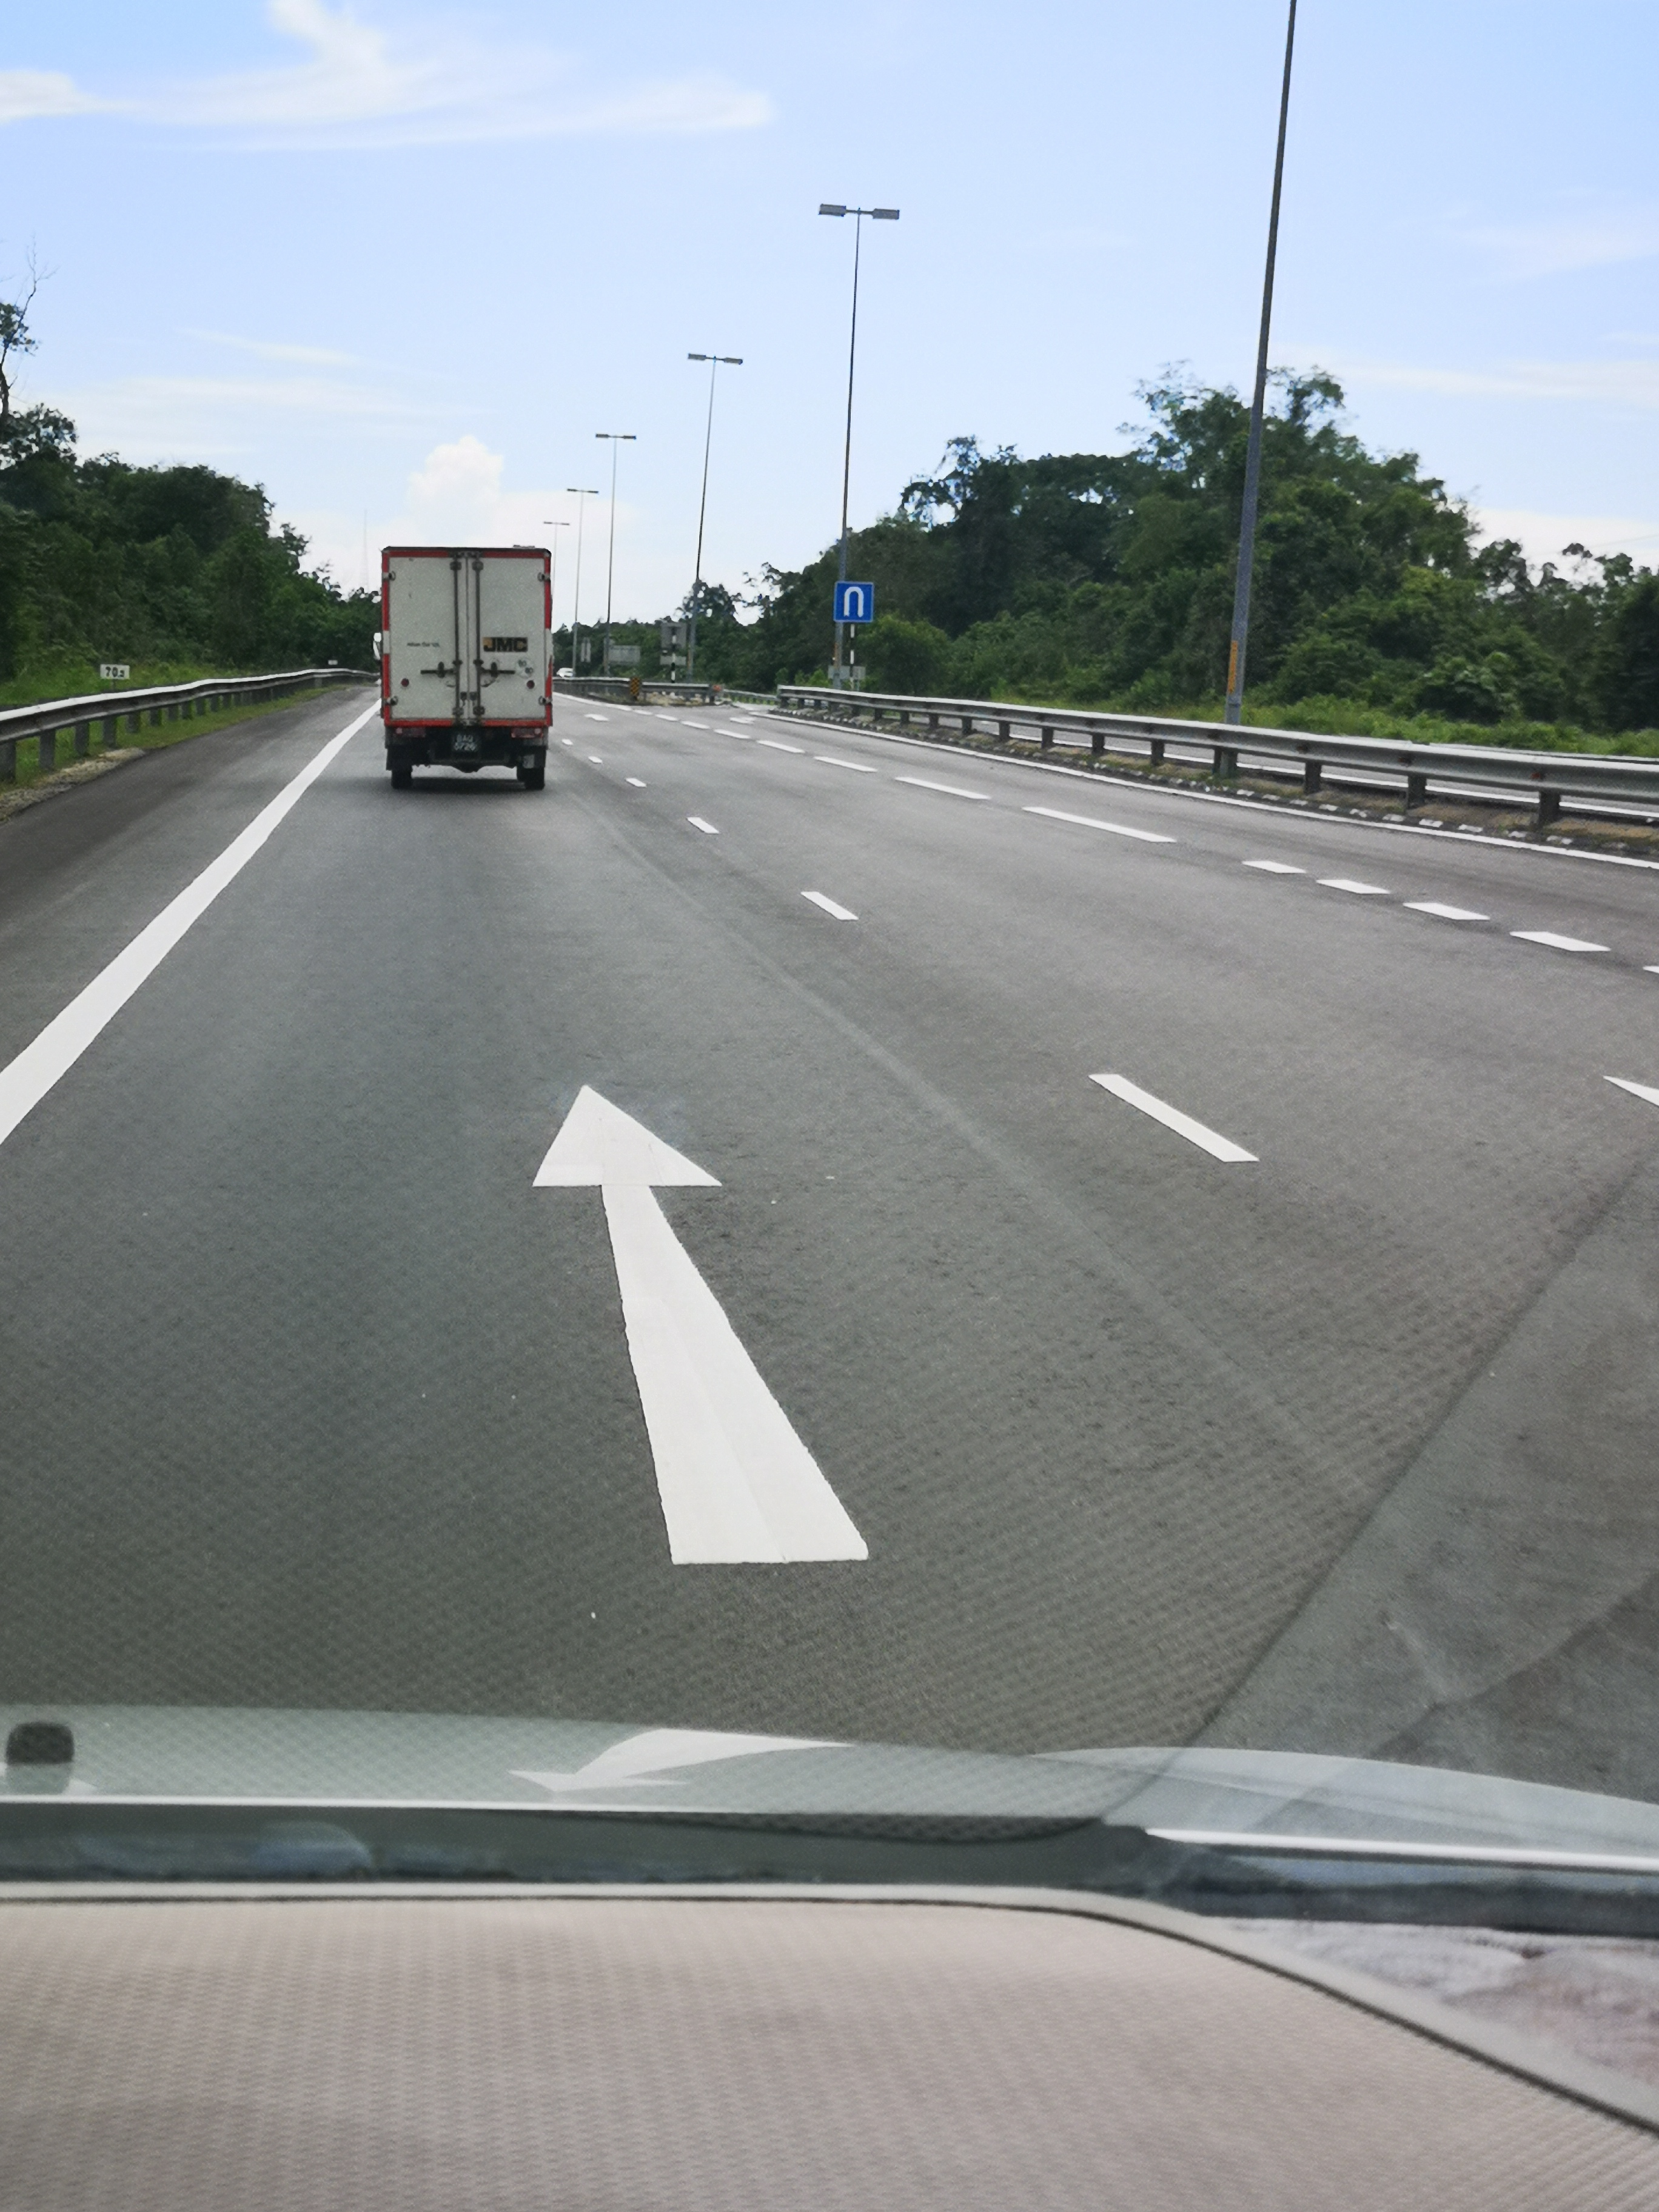U-turn: (831, 573, 875, 625)
